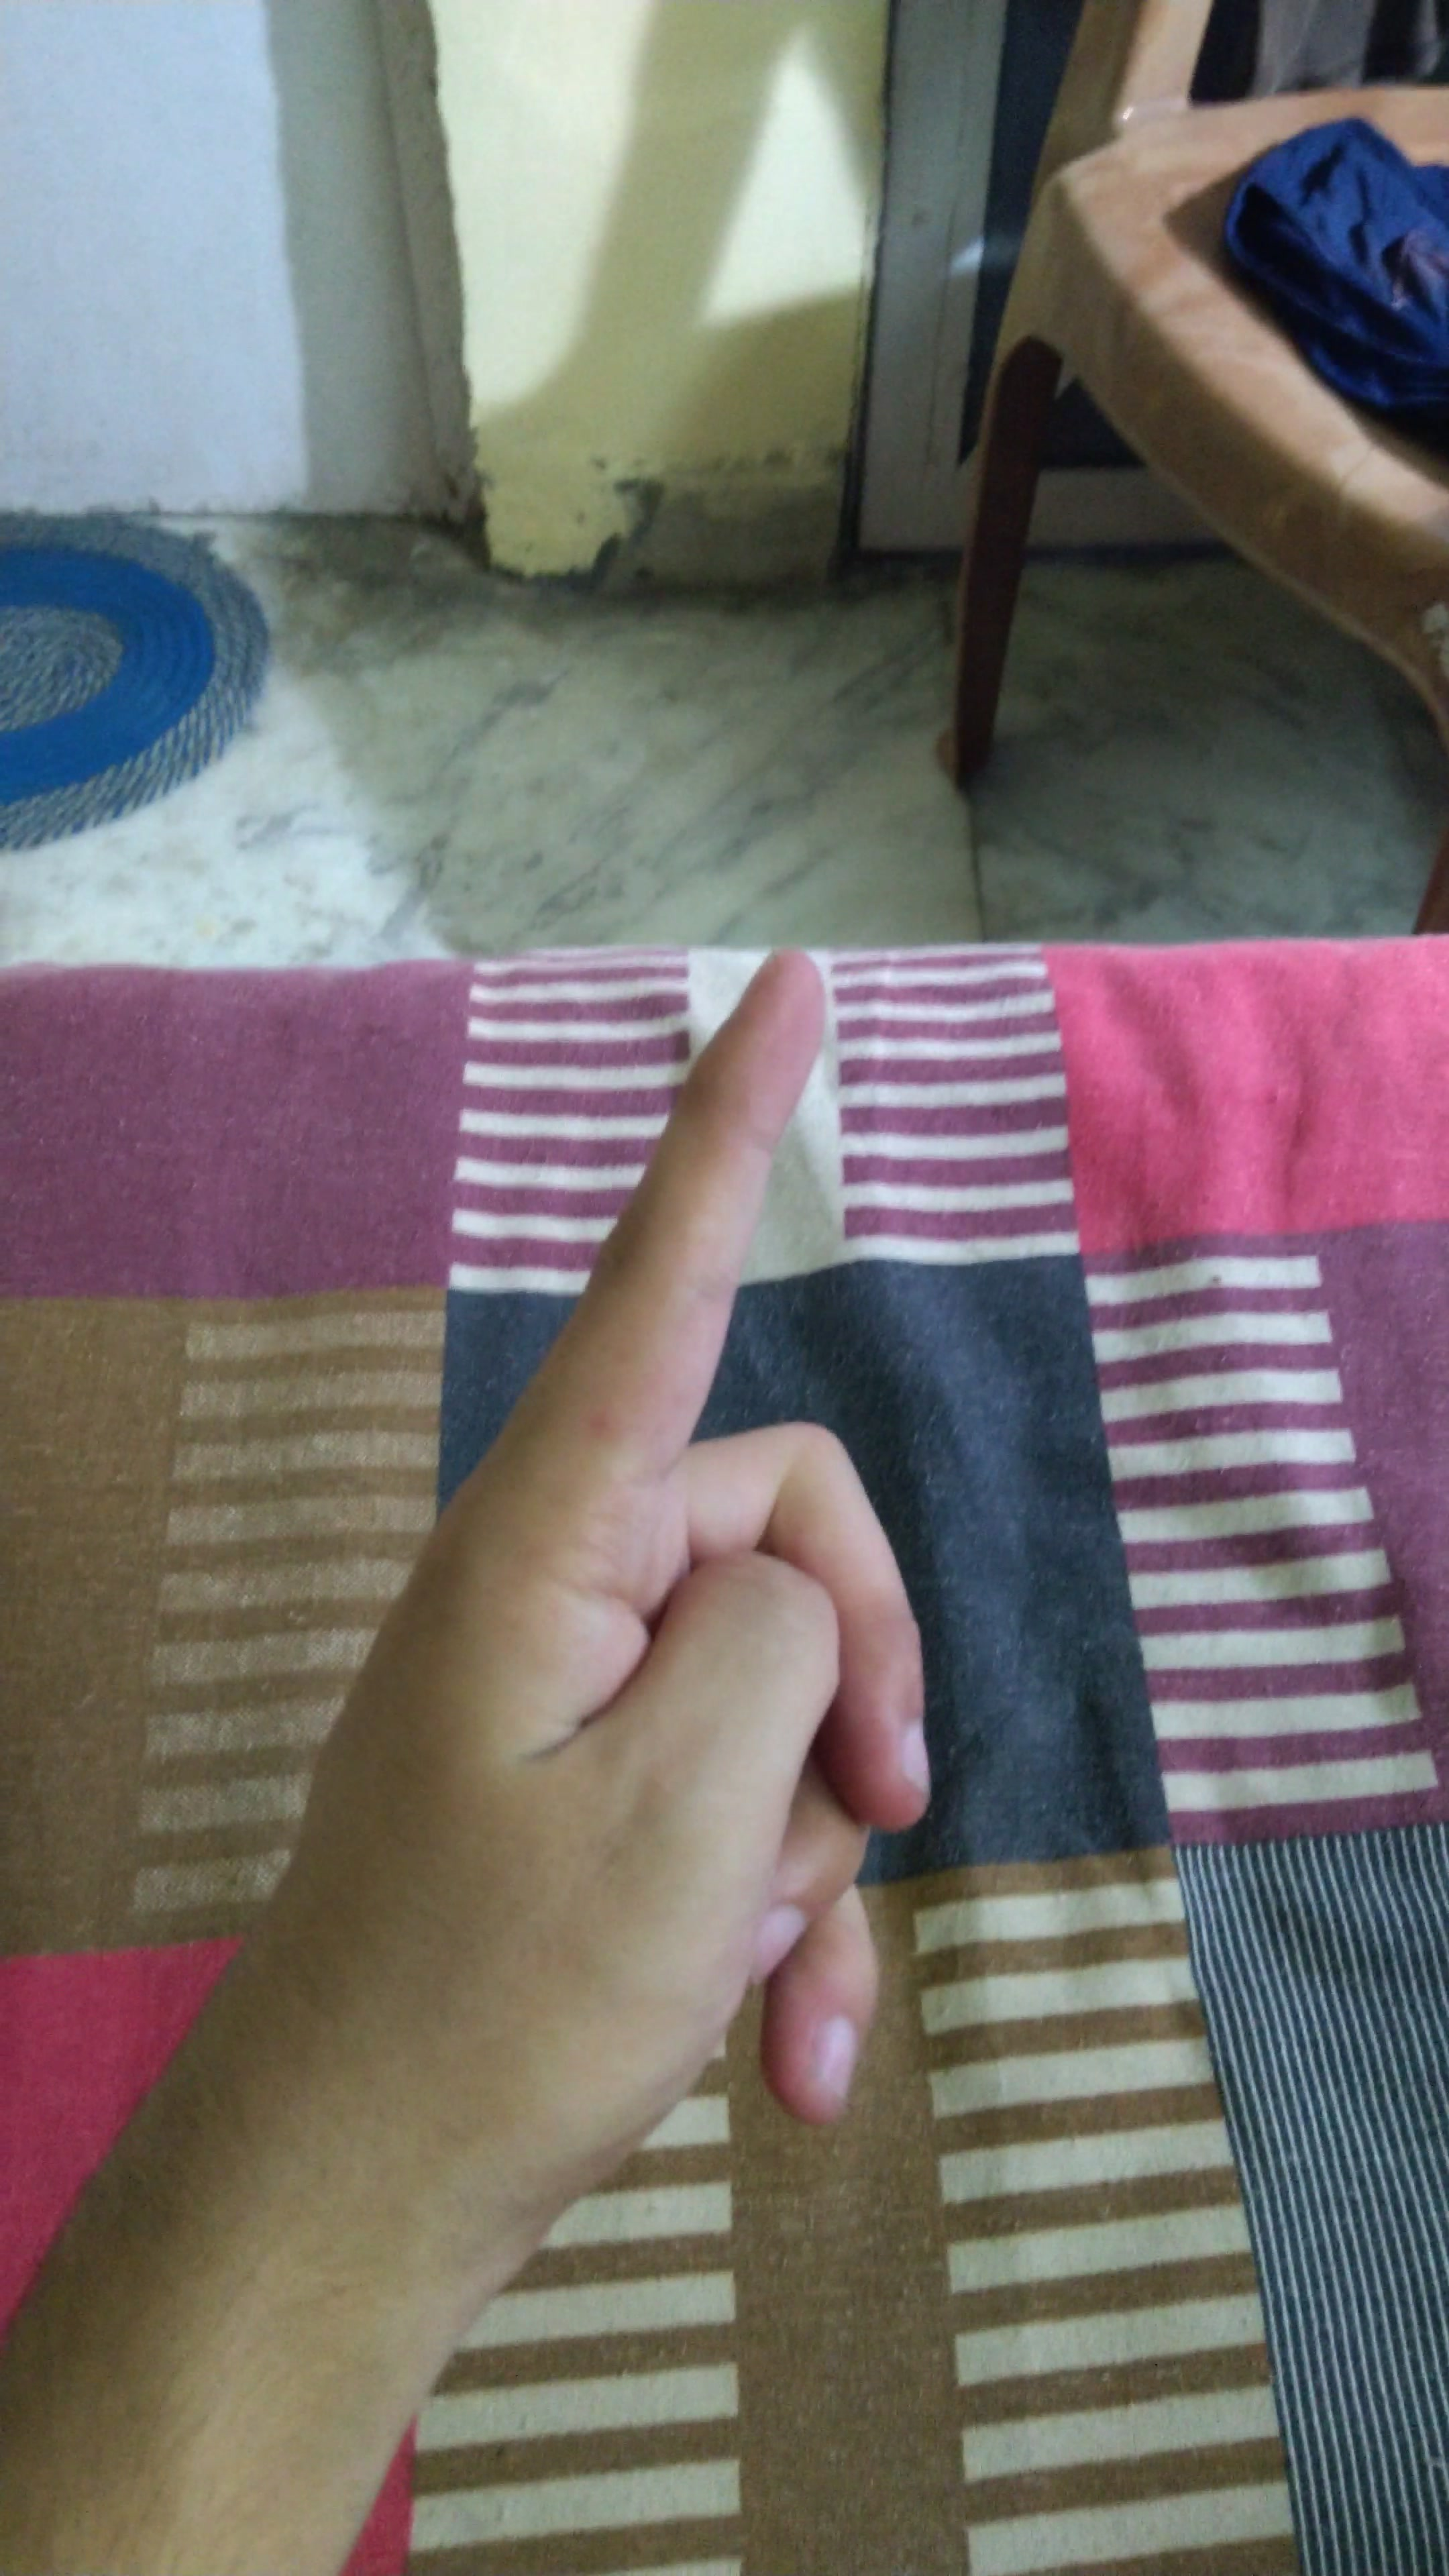hand: (189, 913, 1120, 2169)
